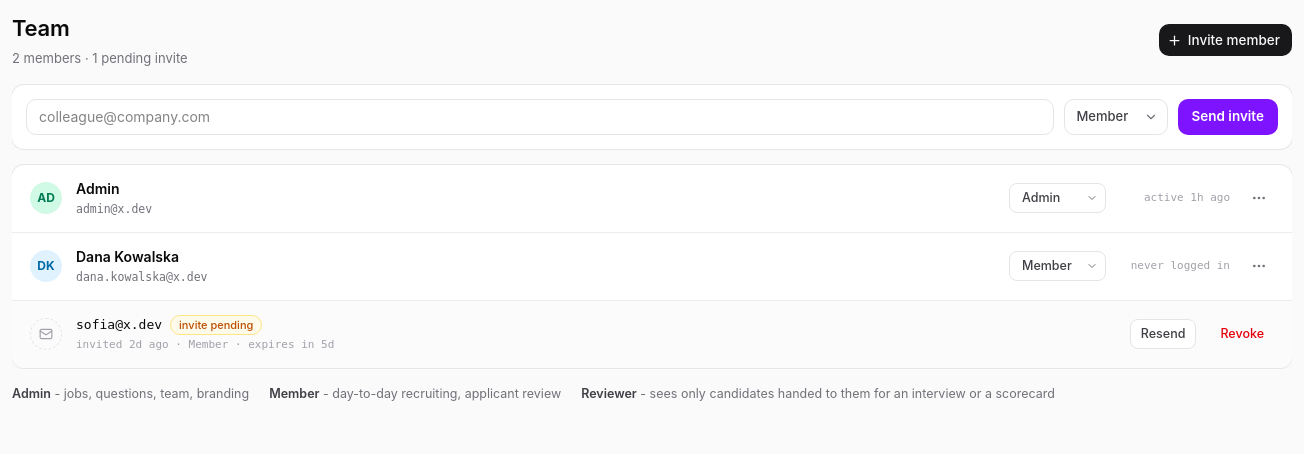
it: TeamPage › resends a pending invite
Expected: the text "sofia@x.dev" is shown, 76,315 -> 162,335
Step 1. Click the button "Resend" → (1163, 334), box 1130,319 -> 1196,349
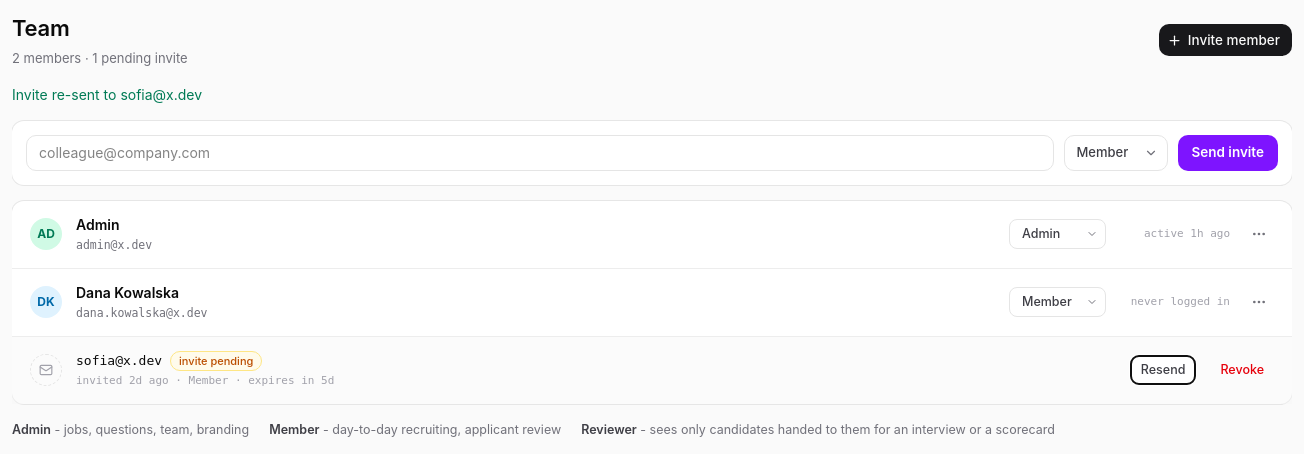
Now the message reads "Invite re-sent to sofia@x.dev", box 12,86 -> 202,102
